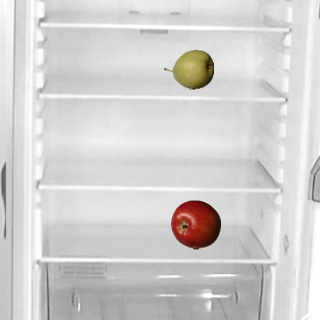Apple Braeburn: (170, 199, 220, 249)
Pear: (163, 44, 213, 94)
